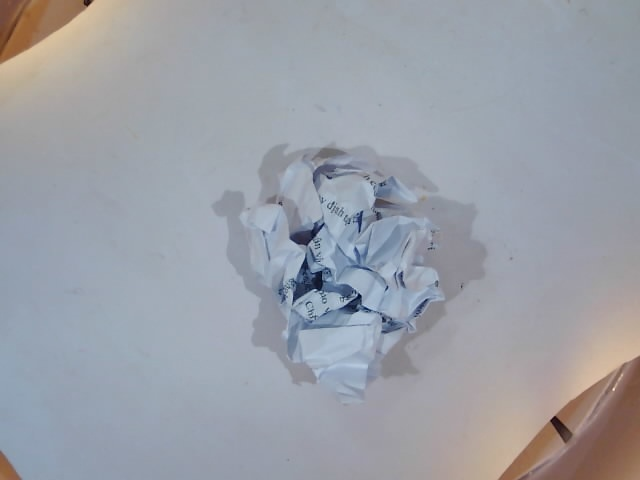paper: (222, 144, 477, 406)
